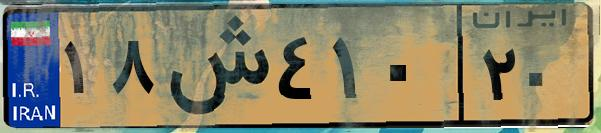0: (385, 28, 445, 110), (525, 38, 570, 115)
1: (330, 28, 385, 110), (57, 26, 110, 100)
2: (475, 38, 525, 113)
4: (270, 28, 330, 110)
8: (110, 28, 158, 98)
ش: (158, 12, 270, 120)
